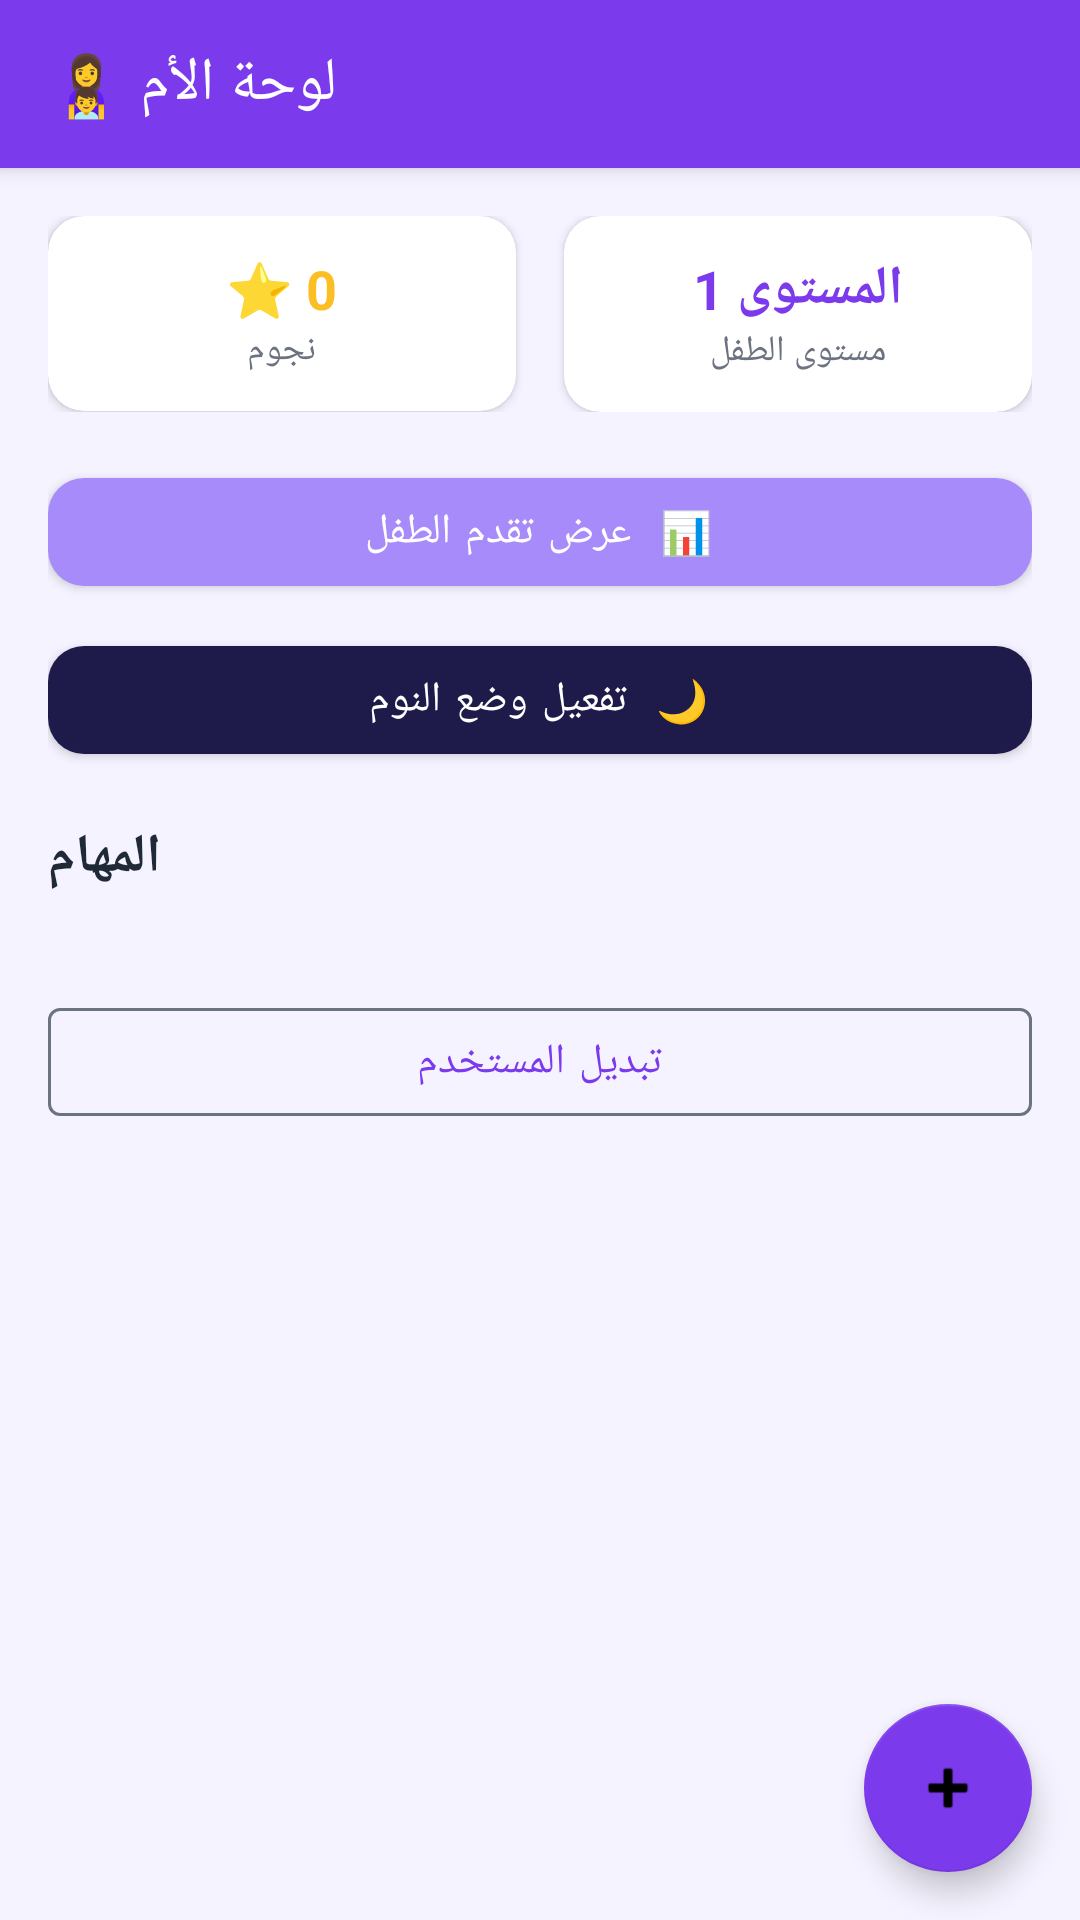

Icon click points for this 1080×1920 phone screenshot, format (x,y):
إضافة مهمة: (948,1788)
